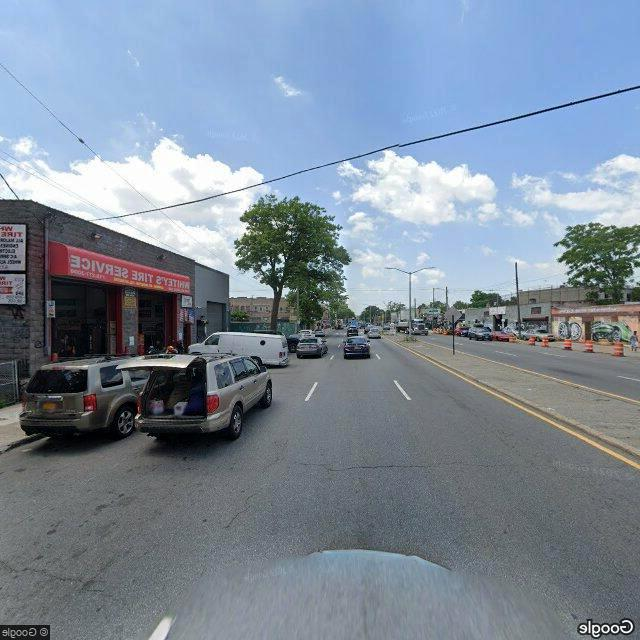crack: (287, 450, 585, 474), (2, 561, 94, 588), (223, 487, 261, 530)
